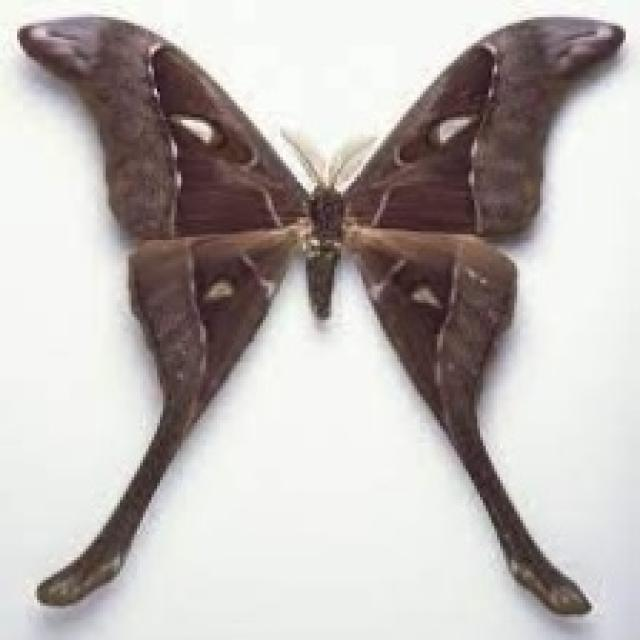butterfly: (14, 9, 626, 614)
